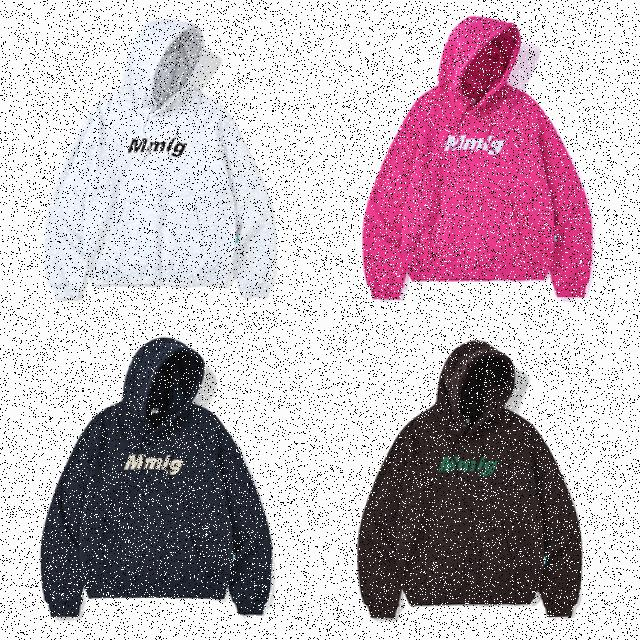Blouse_deep: (333, 339, 640, 640), (340, 15, 611, 294), (41, 16, 297, 302), (34, 327, 298, 603)
